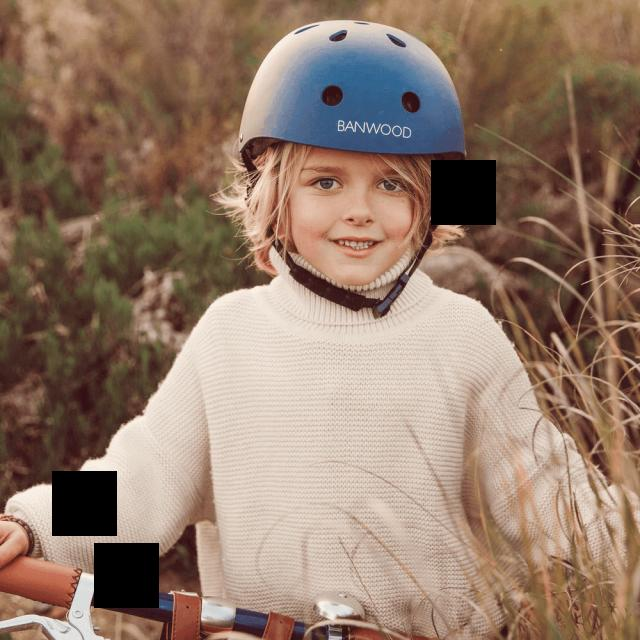Helmet: (237, 18, 472, 289)
